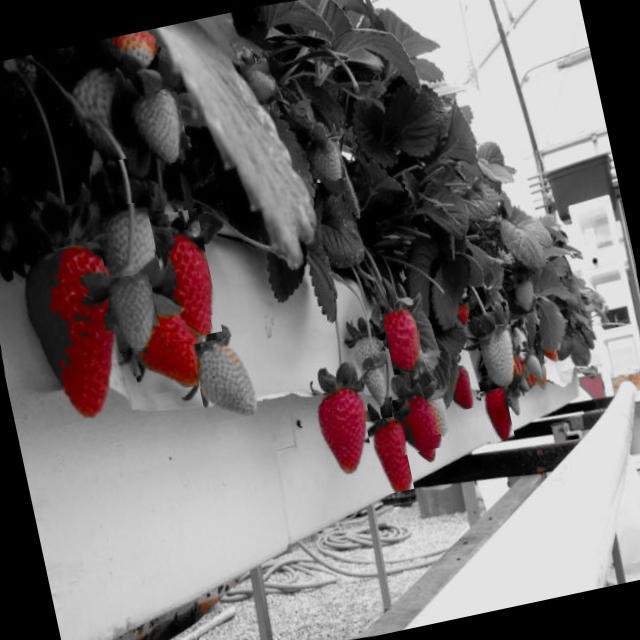ripe: (10, 239, 138, 429), (118, 278, 216, 397), (137, 208, 222, 342), (312, 384, 380, 480), (365, 415, 414, 495), (390, 392, 442, 455), (382, 308, 426, 375), (480, 386, 514, 444), (447, 364, 476, 411), (452, 295, 472, 328)
unripe: (63, 62, 133, 168), (190, 332, 265, 423), (92, 200, 160, 280), (126, 86, 190, 170), (104, 269, 163, 352), (477, 324, 522, 390), (236, 60, 284, 108), (304, 136, 346, 183), (350, 328, 388, 379), (423, 388, 452, 435), (511, 273, 538, 315), (520, 348, 544, 386)
